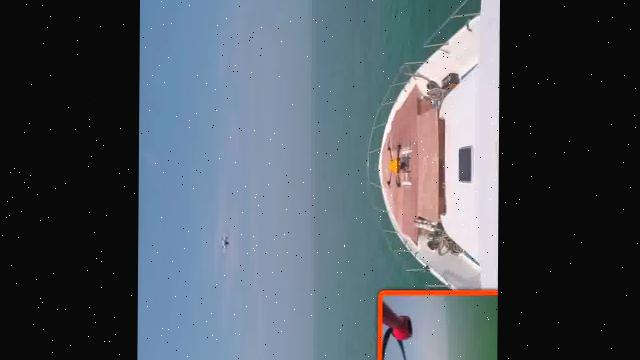drone: (371, 127, 419, 199), (212, 222, 242, 255)
